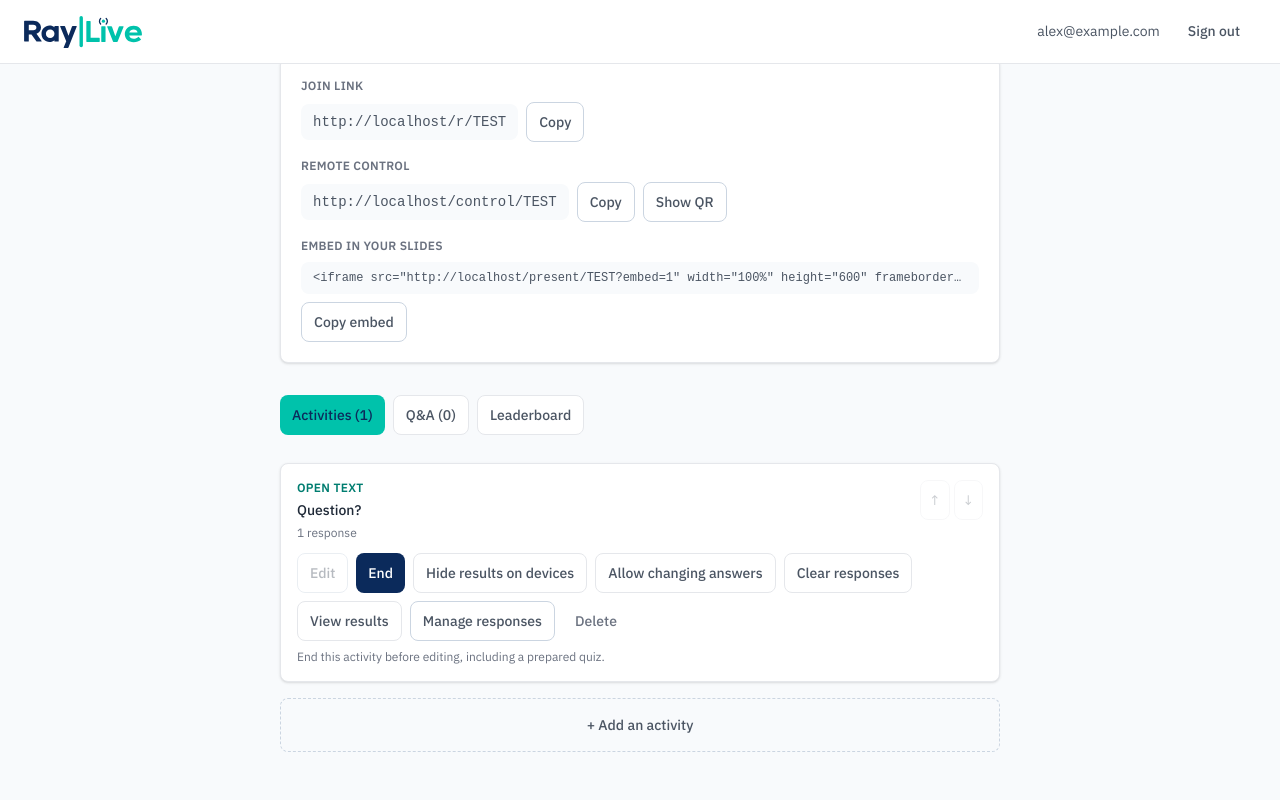
management shell › confirms individual Open text deletion and refreshes the complete list
(page scrolled)
Click the button "Manage responses" at {"x": 482, "y": 621}, box x1=410 y1=601 x2=555 y2=641
(page scrolled)
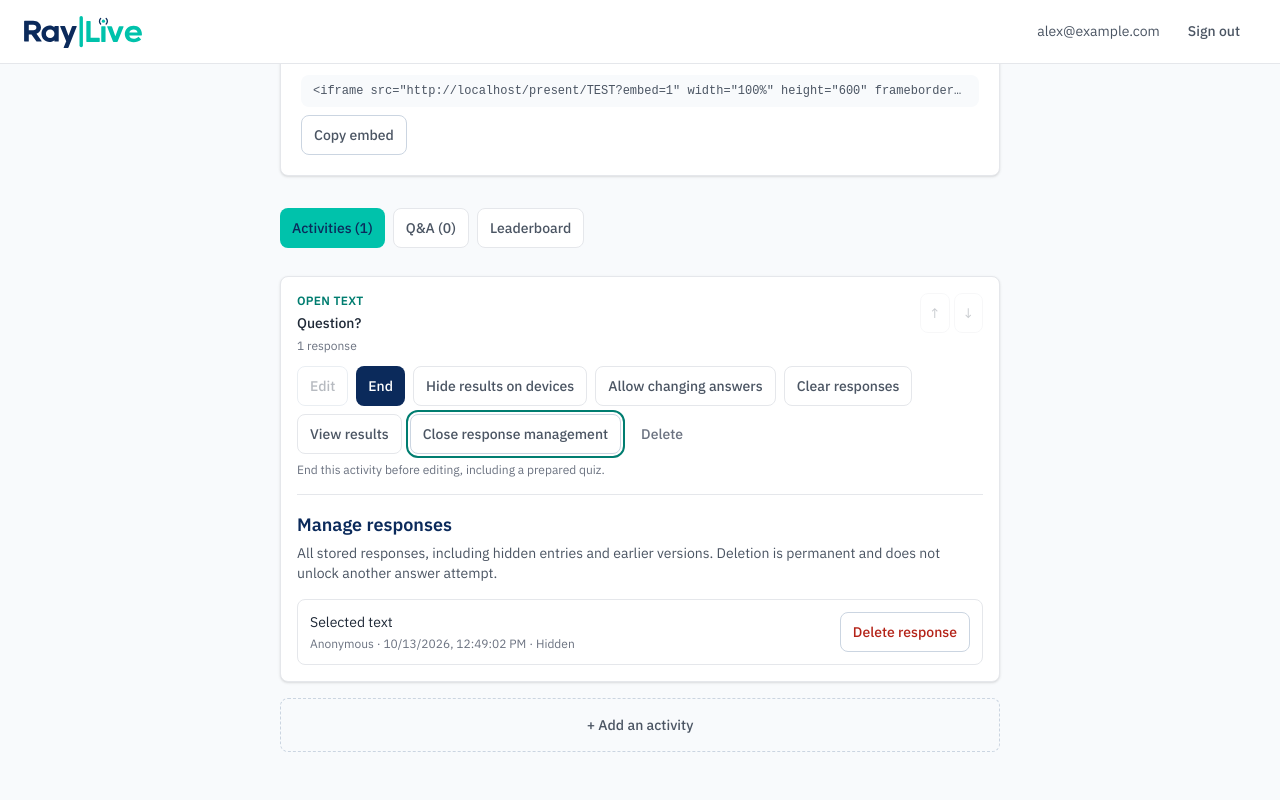
Click the button "Delete response" at {"x": 905, "y": 632}, box x1=840 y1=612 x2=970 y2=652
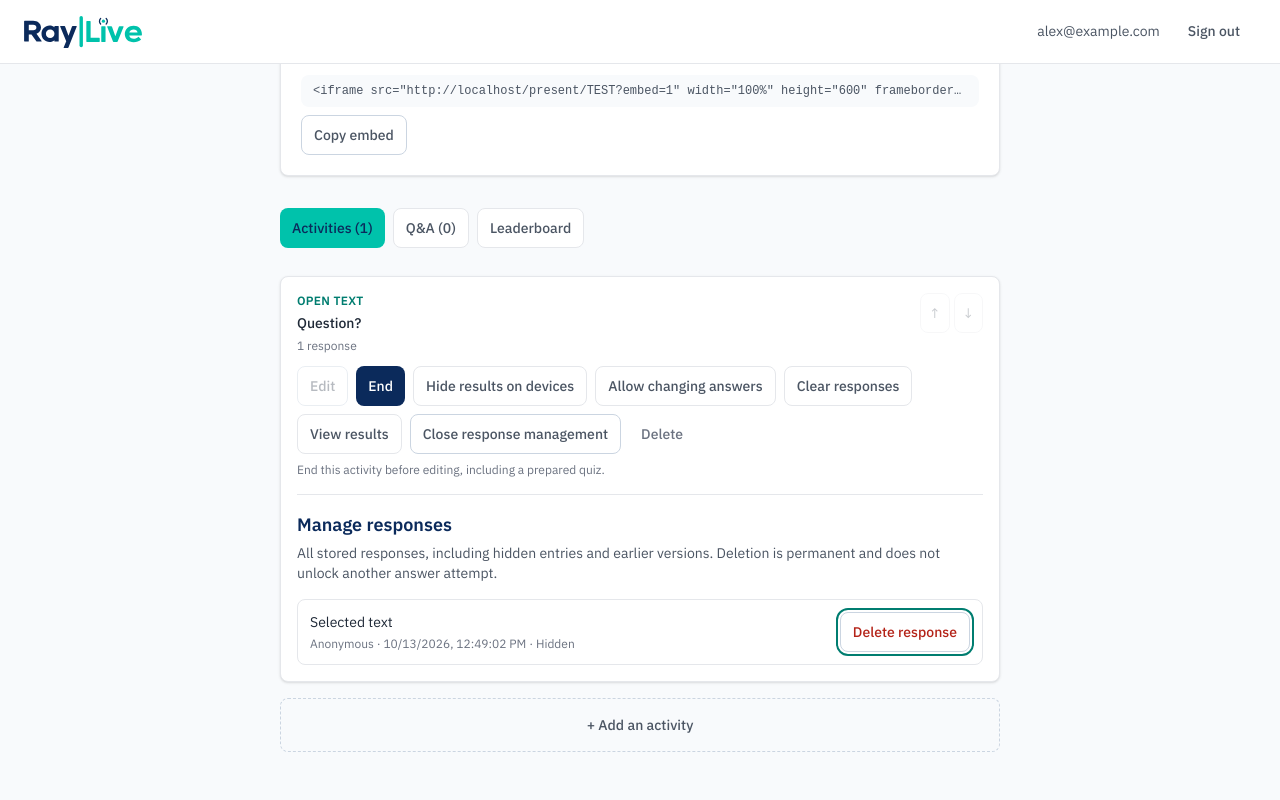
Click the button "Delete response" at {"x": 905, "y": 632}, box x1=840 y1=612 x2=970 y2=652
(page scrolled)
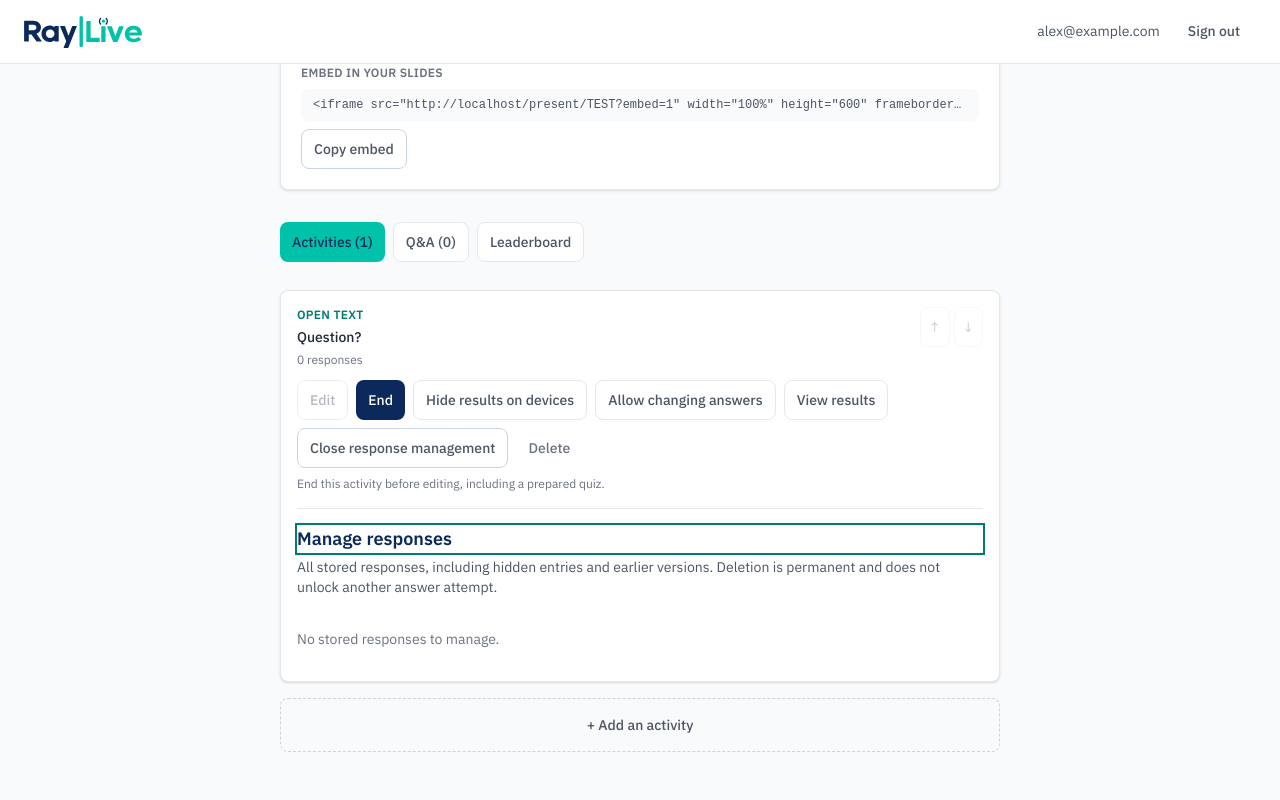
Check: the text "No stored responses to manage." is shown, box x1=297 y1=630 x2=499 y2=648
